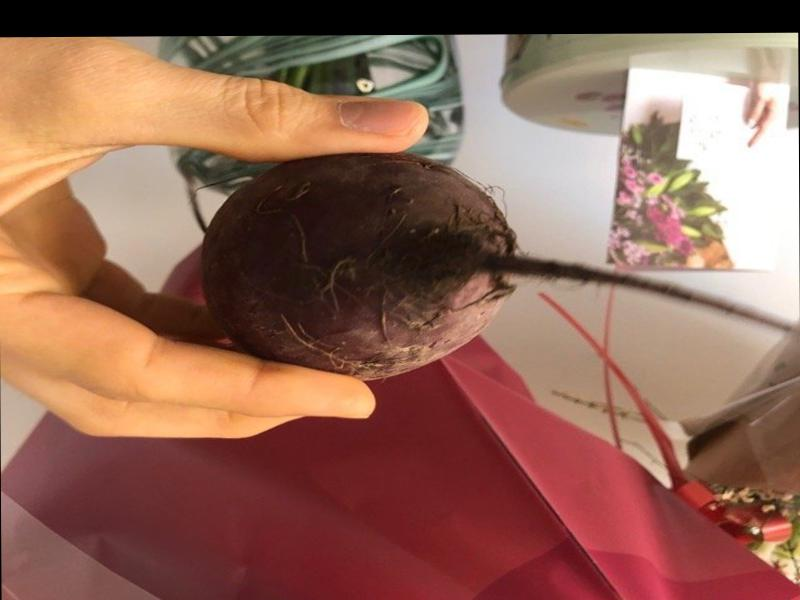Beet: (191, 149, 800, 380)
